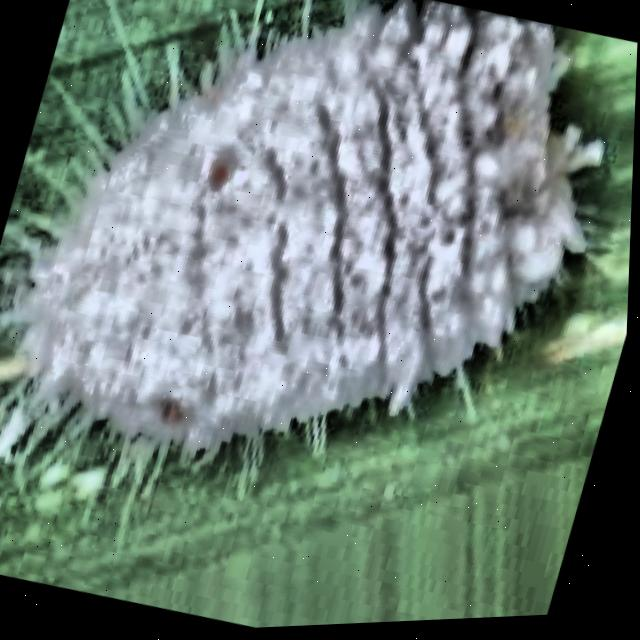Mealy-bug: (0, 0, 640, 605)
